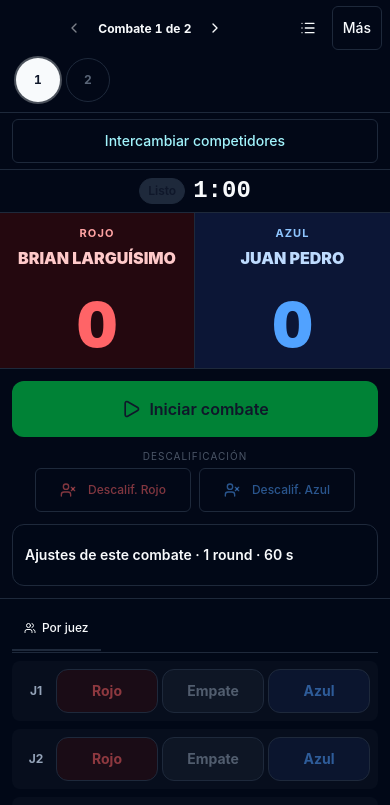
it: panel de combate móvil › separa navegación de nombres, ofrece acciones secundarias sin ejecutarlas y mantiene un solo scroll
This screenshot has width=390, height=805.
Expected: the element with test id "mobile-fight-toolbar" shows "Combate 1 de 2", [52,6,382,50]
Expected: the element with test id "mobile-fight-toolbar" does not show "BRIAN", [52,6,382,50]
Click the button "Más": (357, 28) [332,6,382,50]
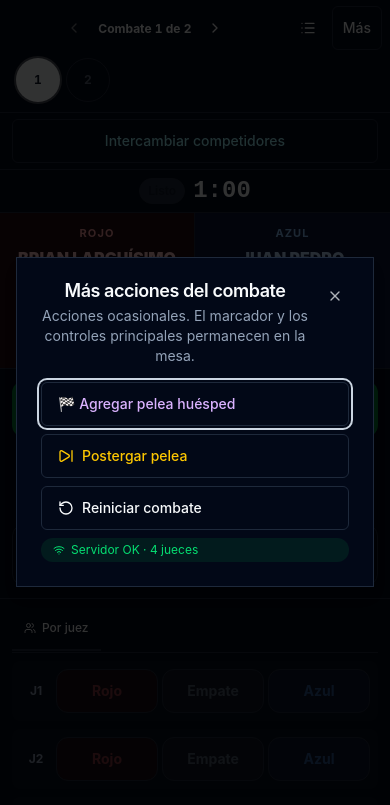
Expected: the dialog with test id "mobile-fight-actions" shows "Agregar pelea huésped", [41,382,349,426]
Expected: the dialog with test id "mobile-fight-actions" shows "Postergar pelea", [41,434,349,478]
Expected: the dialog with test id "mobile-fight-actions" shows "Reiniciar combate", [41,486,349,530]
